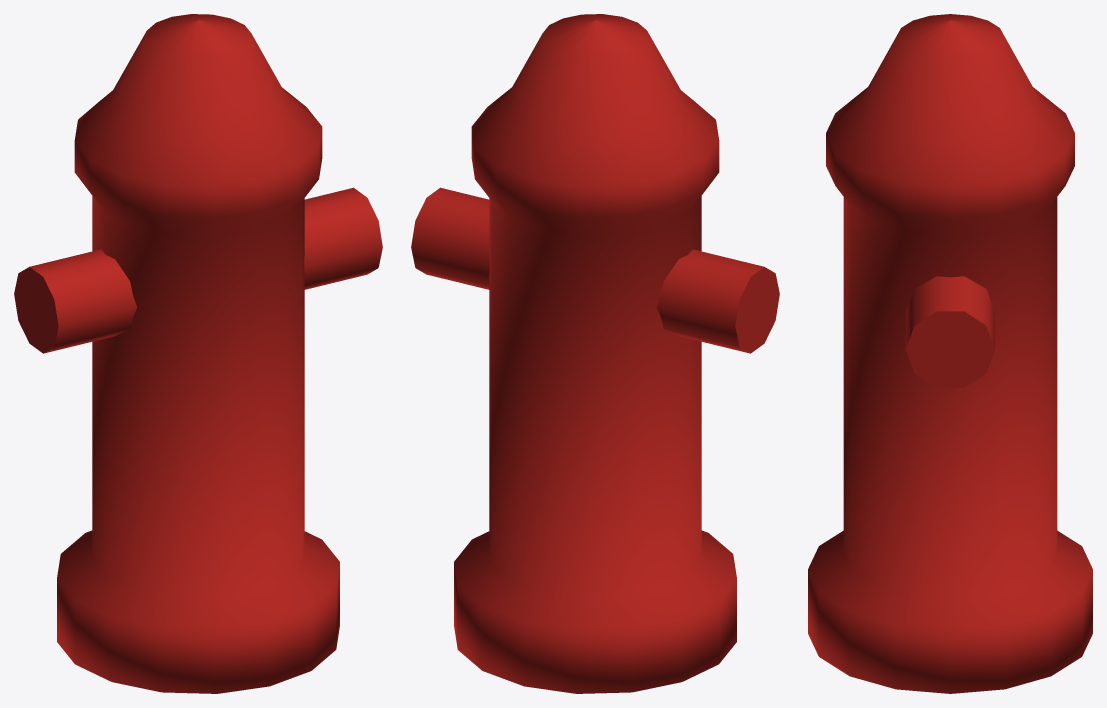
The model's file is hydrant.glb.
3 views of the same model, side by side, from view 1: azimuth 30°, elevation 25°; view 2: azimuth 150°, elevation 25°; view 3: azimuth 270°, elevation 25° (orthographic).
Parts seen in each view (by area): view 1: hydrant; view 2: hydrant; view 3: hydrant.
Boxes of the visible parts, left/top/right/bottom form: hydrant: left=14, top=14, right=382, bottom=693; hydrant: left=411, top=14, right=779, bottom=693; hydrant: left=808, top=14, right=1092, bottom=693.
Size of the model in its own units: 0.42 by 0.76 by 0.32.
